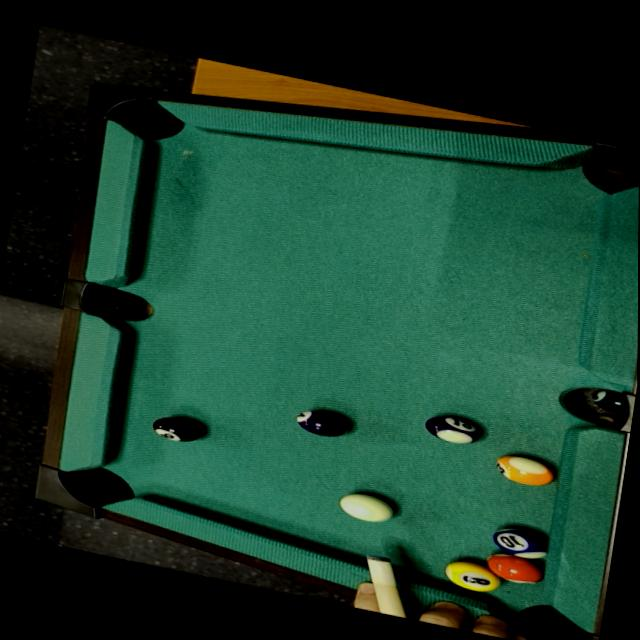cue ball: (334, 487, 397, 529)
other: (481, 545, 551, 592), (488, 521, 557, 568), (492, 449, 562, 493), (419, 409, 489, 452), (441, 557, 502, 599), (290, 406, 351, 444), (146, 413, 203, 448)
